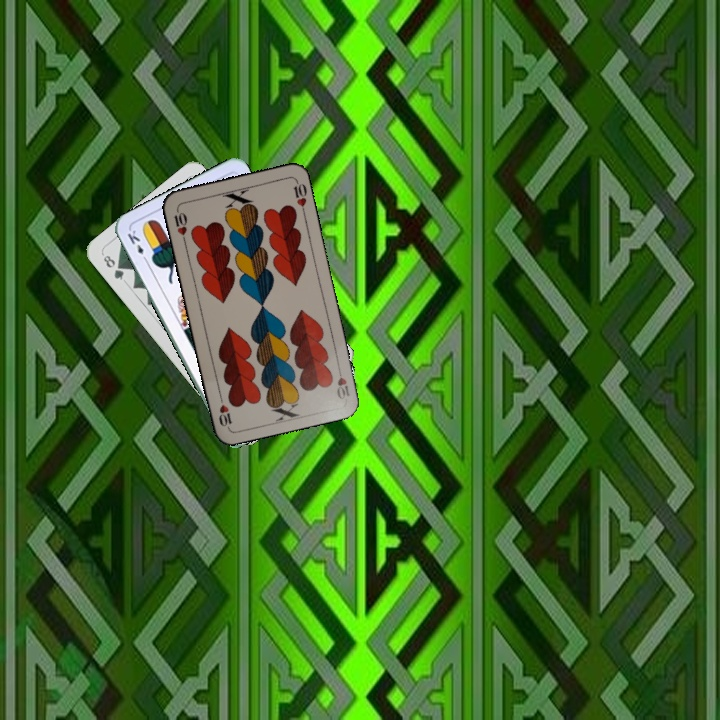EK: (123, 226, 150, 265)
G8: (99, 251, 127, 283)
H10: (170, 205, 190, 245), (333, 362, 352, 402)
